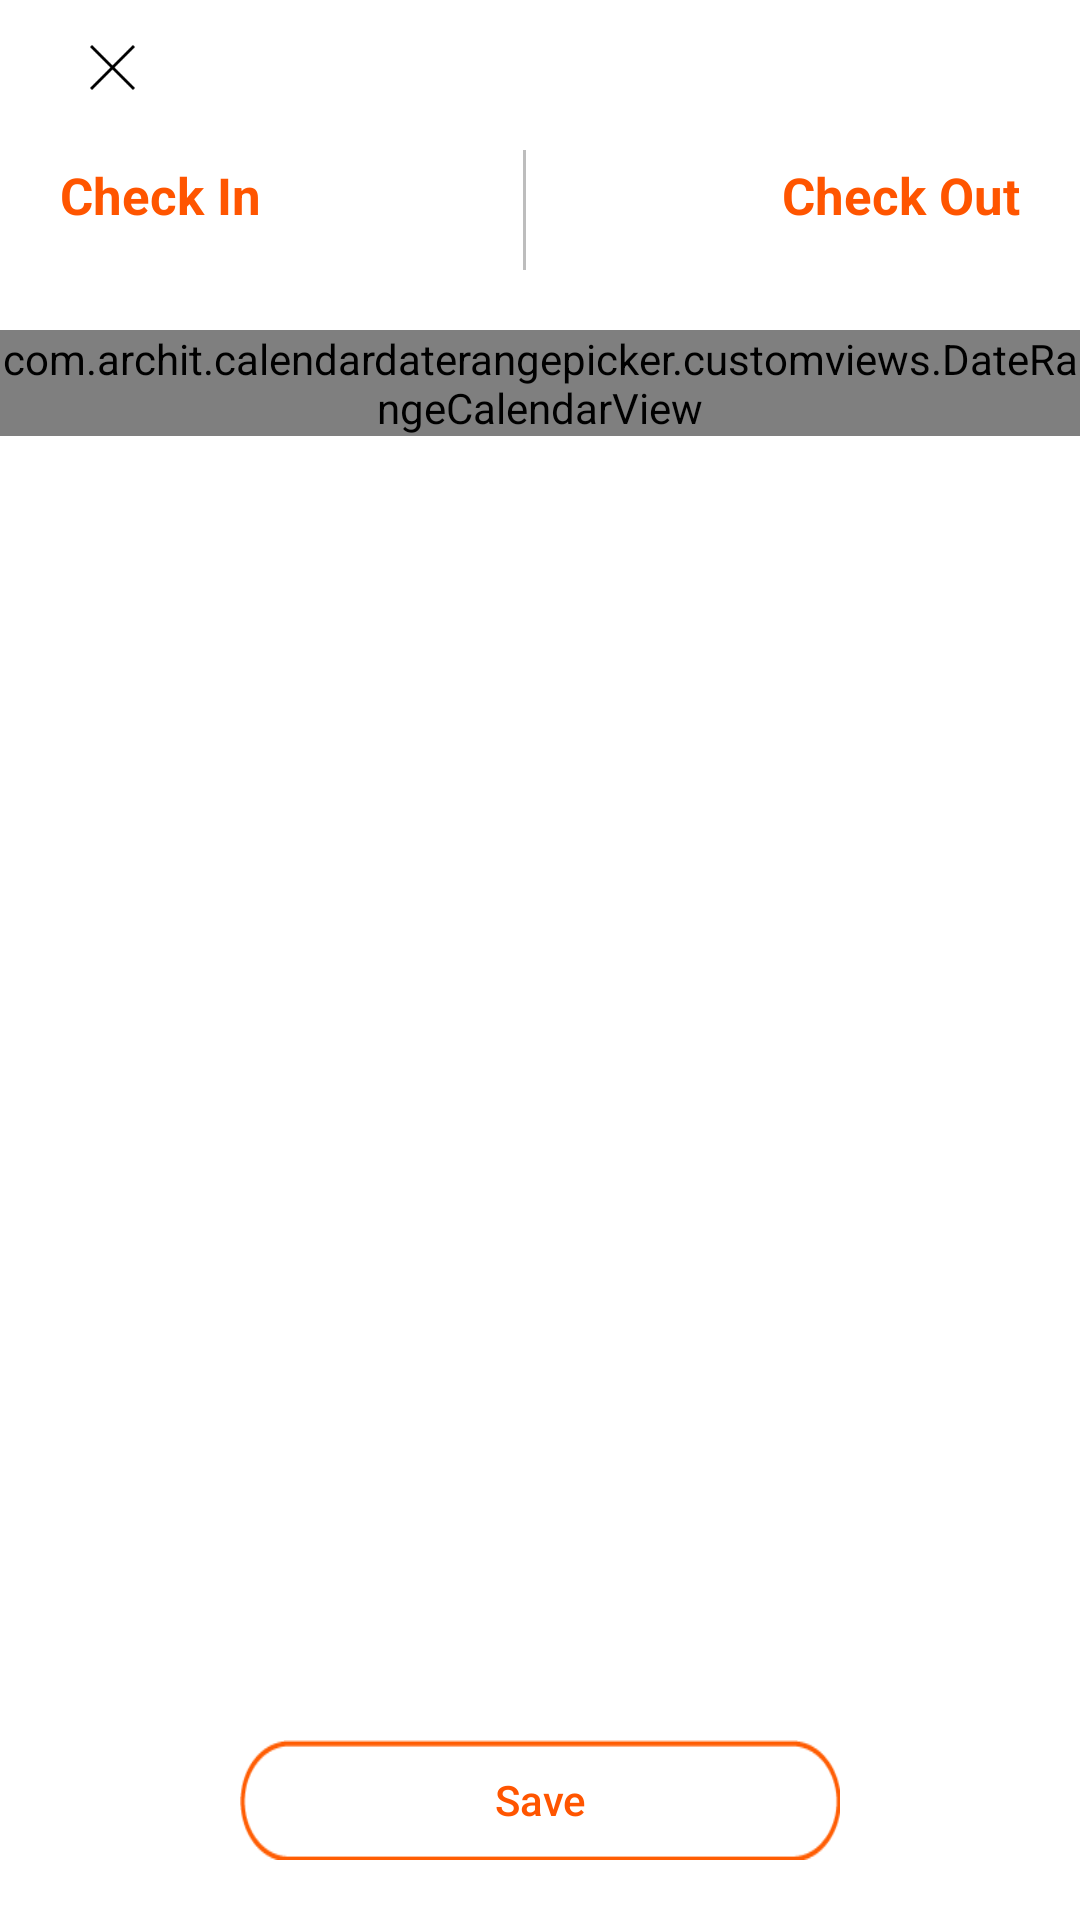

Icon click points for this 1080x1920 phone screenshot, format (x=x, y=y):
cross: (x=112, y=67)
